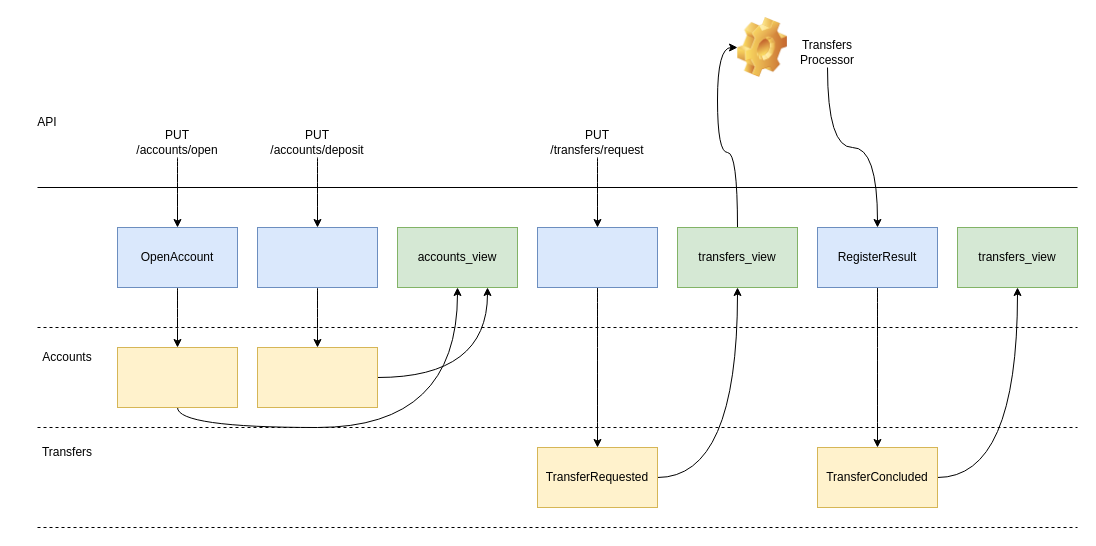
This 1096x546 diagram has some shape labels left out. Here are the shapes that lost their labels. From the top down, the centre of each, then its label:
At pixel 317 257: "DepositMoney".
At pixel 597 257: "RequestTransfer".
At pixel 177 377: "AccountOpened".
At pixel 317 377: "MoneyDeposited".
